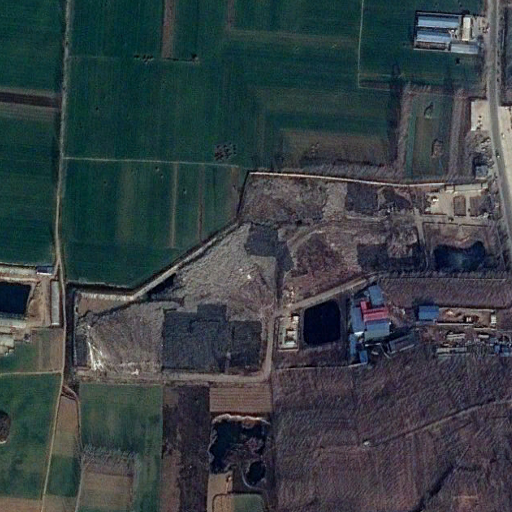lf: (65, 166, 502, 382)
